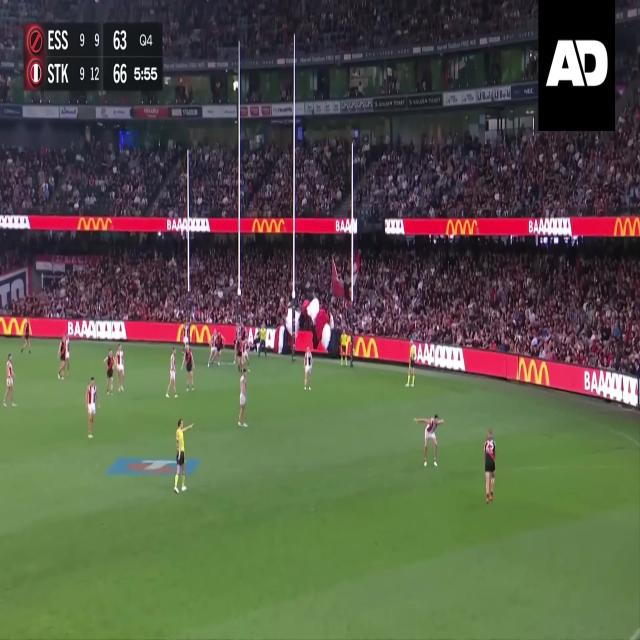crowd: (1, 3, 538, 99), (354, 41, 640, 217), (297, 235, 639, 374), (5, 233, 291, 325), (0, 138, 186, 212), (0, 231, 108, 276), (298, 139, 351, 217), (188, 143, 236, 217), (241, 145, 293, 213)
